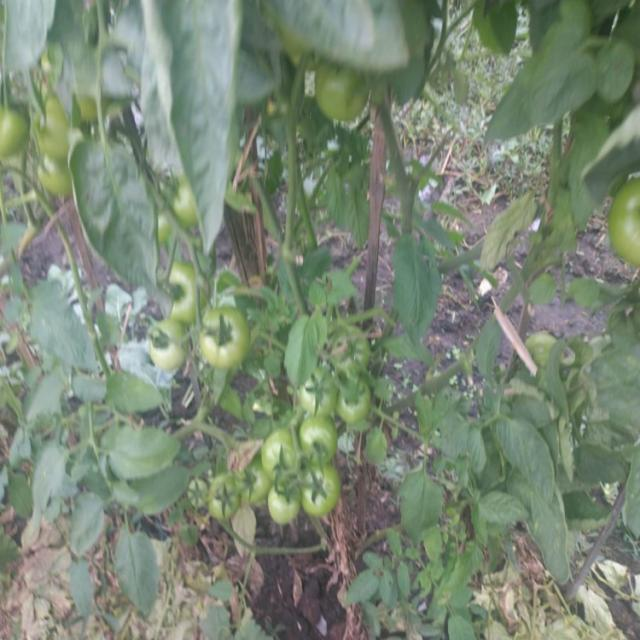tomato: (316, 65, 371, 125), (43, 95, 73, 196), (609, 177, 640, 273), (206, 315, 250, 375), (162, 261, 204, 315), (1, 100, 35, 160), (333, 328, 371, 379), (148, 320, 186, 370), (301, 465, 340, 512), (339, 383, 377, 430), (261, 432, 298, 478), (297, 424, 339, 461), (302, 378, 334, 423), (209, 473, 239, 521), (168, 178, 198, 225), (523, 325, 556, 361), (272, 483, 295, 521), (241, 467, 260, 505), (185, 475, 204, 508)
